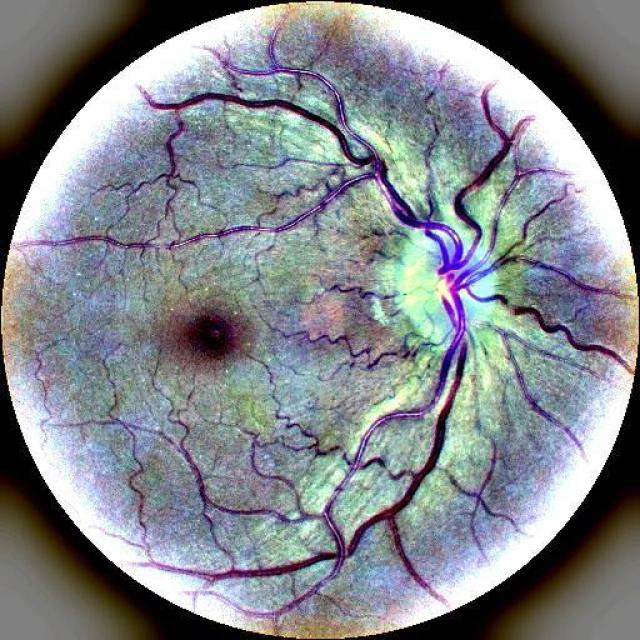Macula: (167, 294, 261, 373)
Nerves: (22, 28, 529, 302), (159, 302, 474, 609)
Optic Disk: (365, 197, 538, 380)
